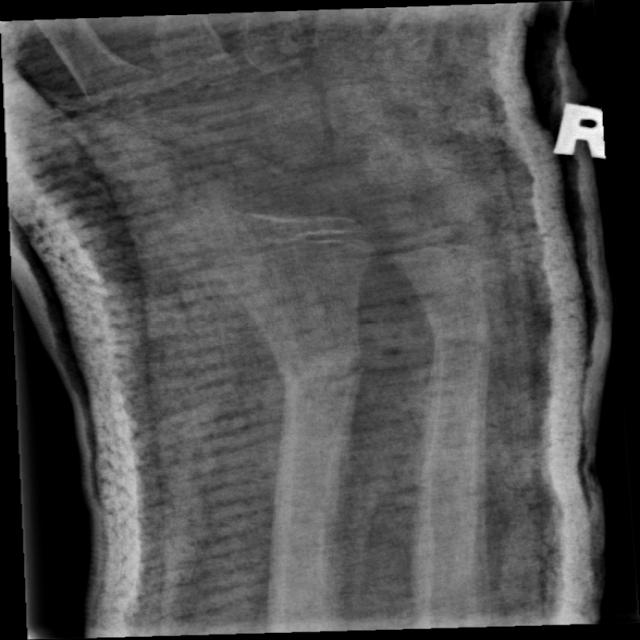radius fracture: (262, 306, 385, 450)
ulna fracture: (420, 301, 508, 398)
